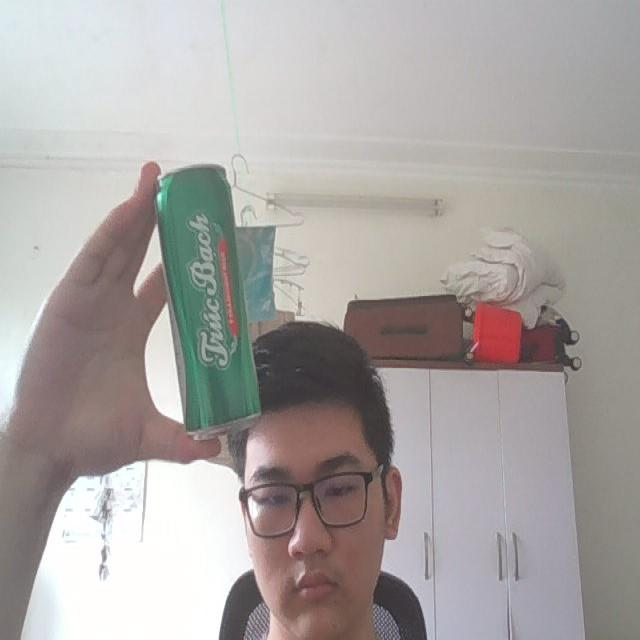Bia-Truc-Bach: (149, 159, 264, 443)
